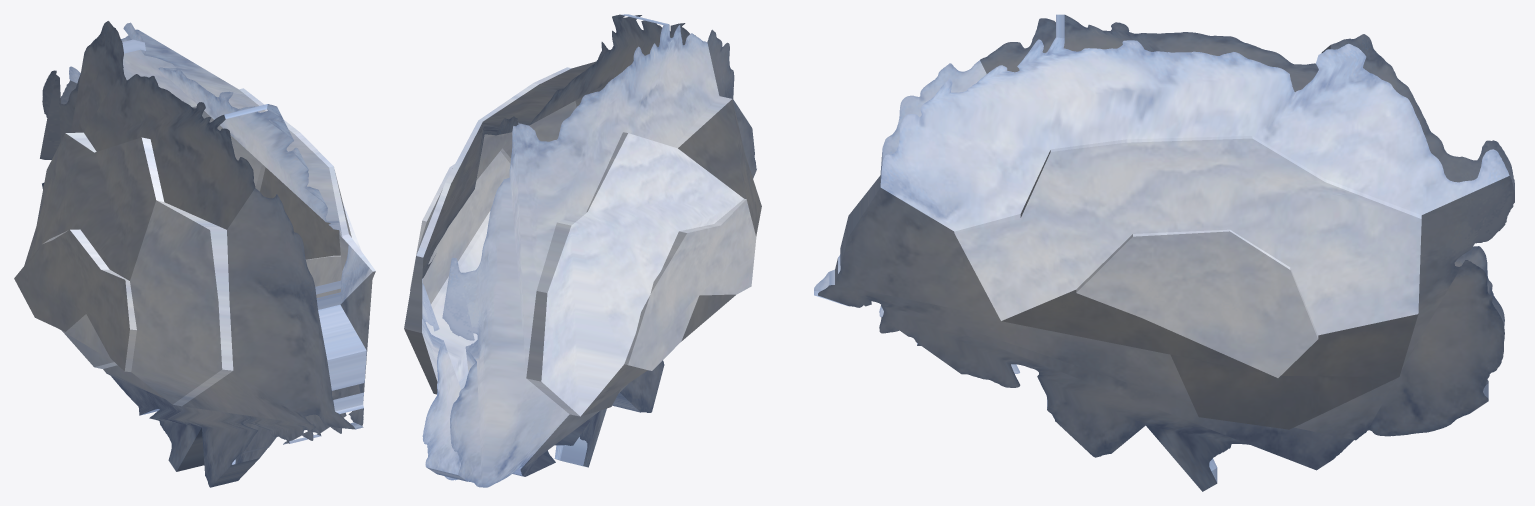
Rendered from cloud2.fbx.
The picture shows the model from 3 angles, left to right: view 1: azimuth 30°, elevation 25°; view 2: azimuth 150°, elevation 25°; view 3: azimuth 270°, elevation 25°; orthographic projection. The views are drawn at different scales.
Parts seen in each view (by area): view 1: cloud; view 2: cloud; view 3: cloud.
Boxes of the visible parts, x1,y1,x2,y2 form: cloud: [14, 21, 375, 487]; cloud: [404, 14, 761, 487]; cloud: [814, 14, 1514, 491].
Bounding box in the file's own units: 53.28 × 87.3 × 126.
Materials: 1 (1 with a texture image).
